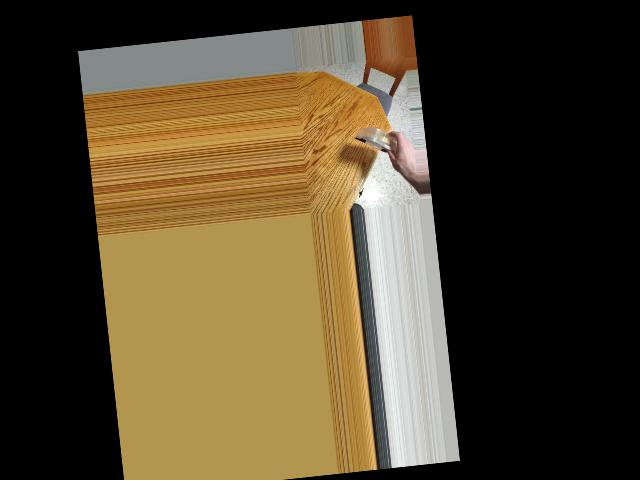cheese: (354, 123, 400, 155)
